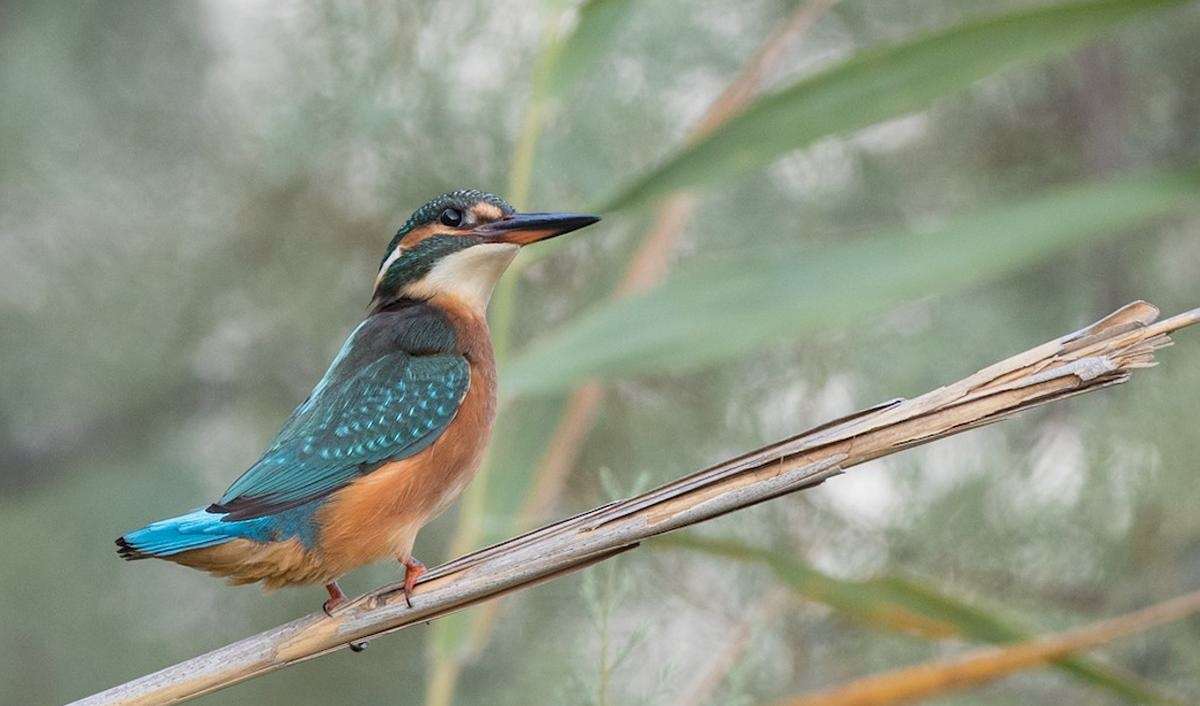kingfisher: (139, 175, 599, 643)
